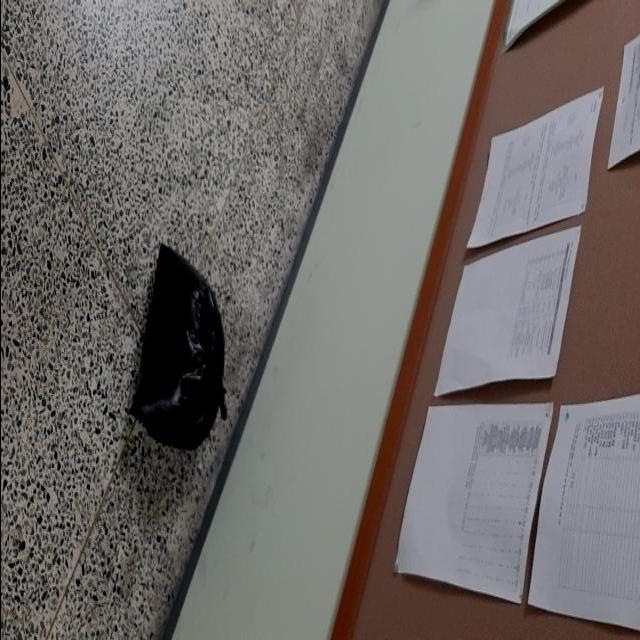black_bag: (126, 242, 230, 454)
